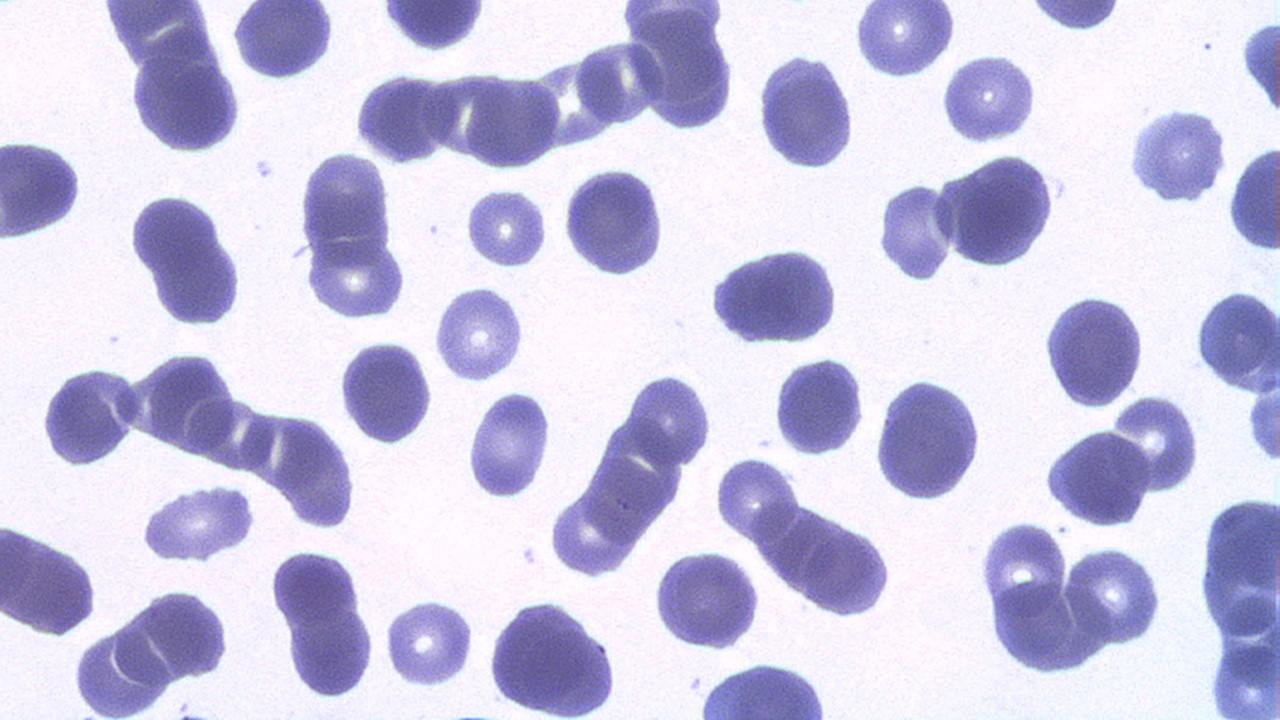Platelets: (251, 156, 276, 182)
RBC: (622, 2, 736, 135), (0, 515, 96, 643), (296, 150, 394, 268), (353, 65, 460, 165), (282, 594, 378, 704), (1062, 544, 1164, 646), (939, 47, 1040, 146), (432, 283, 529, 382), (379, 592, 479, 688), (468, 70, 561, 173), (976, 516, 1069, 616), (301, 235, 409, 321), (278, 412, 356, 530), (624, 370, 716, 470), (1114, 390, 1202, 494), (875, 178, 958, 286), (852, 0, 958, 82), (576, 33, 662, 128), (269, 544, 363, 630), (713, 453, 800, 544), (420, 67, 502, 160), (464, 185, 547, 271)
WBC: (0, 0, 884, 720), (871, 42, 1280, 720), (69, 582, 237, 716), (1194, 488, 1280, 714), (122, 186, 248, 334), (480, 594, 626, 717), (119, 24, 245, 160), (620, 0, 740, 136), (871, 371, 988, 504), (940, 150, 1067, 270), (704, 240, 844, 348), (1040, 288, 1148, 411), (560, 161, 669, 279), (754, 50, 858, 173), (1038, 423, 1154, 530), (1, 517, 102, 639), (267, 546, 371, 664), (36, 358, 144, 470), (651, 546, 765, 652), (1122, 100, 1232, 208), (336, 335, 437, 447), (138, 478, 262, 567), (463, 385, 556, 501), (770, 352, 868, 458), (938, 48, 1044, 146), (350, 68, 457, 163), (278, 412, 359, 536), (1, 130, 88, 245), (1191, 284, 1279, 397), (624, 365, 718, 470), (228, 2, 339, 82), (854, 2, 962, 82), (878, 179, 958, 286), (689, 658, 836, 716), (1226, 137, 1280, 258), (377, 0, 490, 54), (1239, 8, 1280, 132), (1022, 0, 1128, 32)
